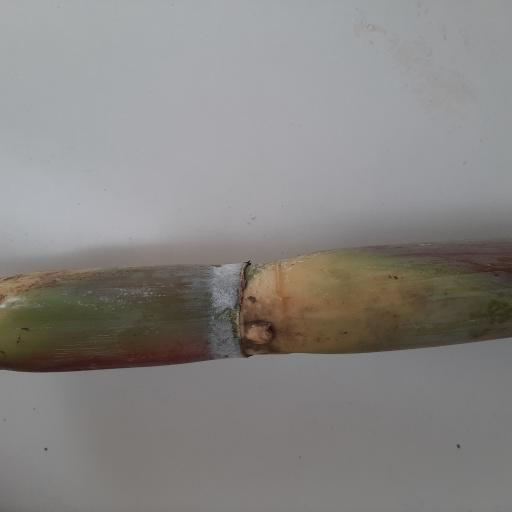Bud: (243, 321, 275, 346)
